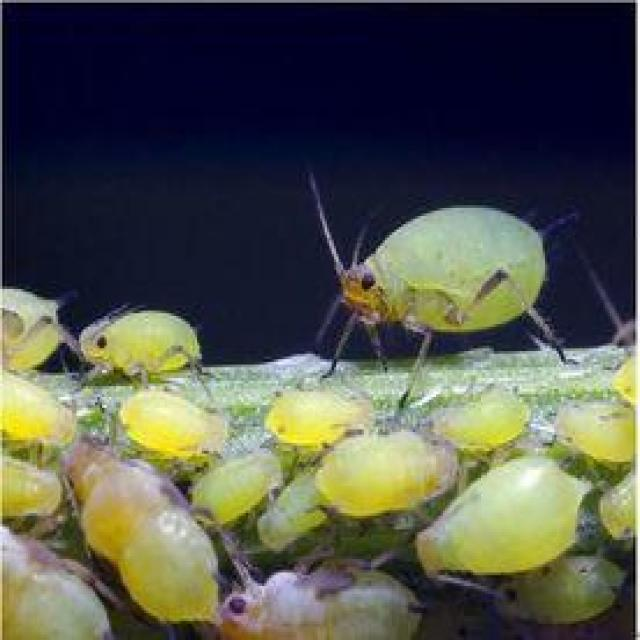Aphids: (266, 147, 637, 411)
